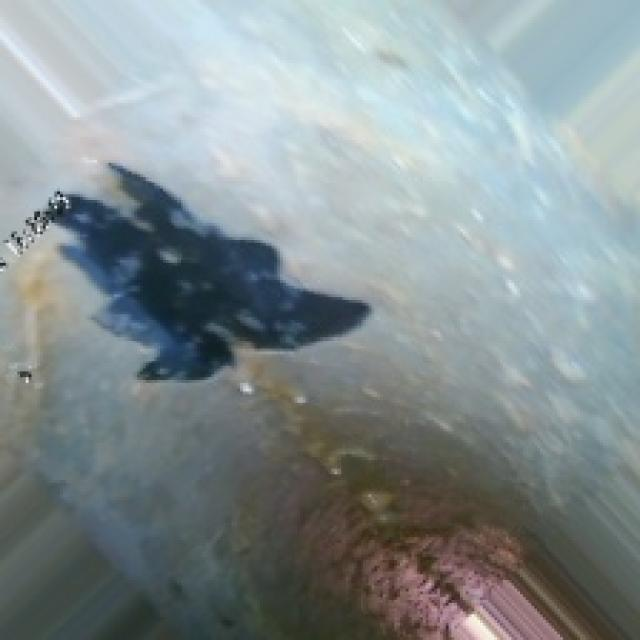pipe_surface_damage: (34, 157, 369, 389)
